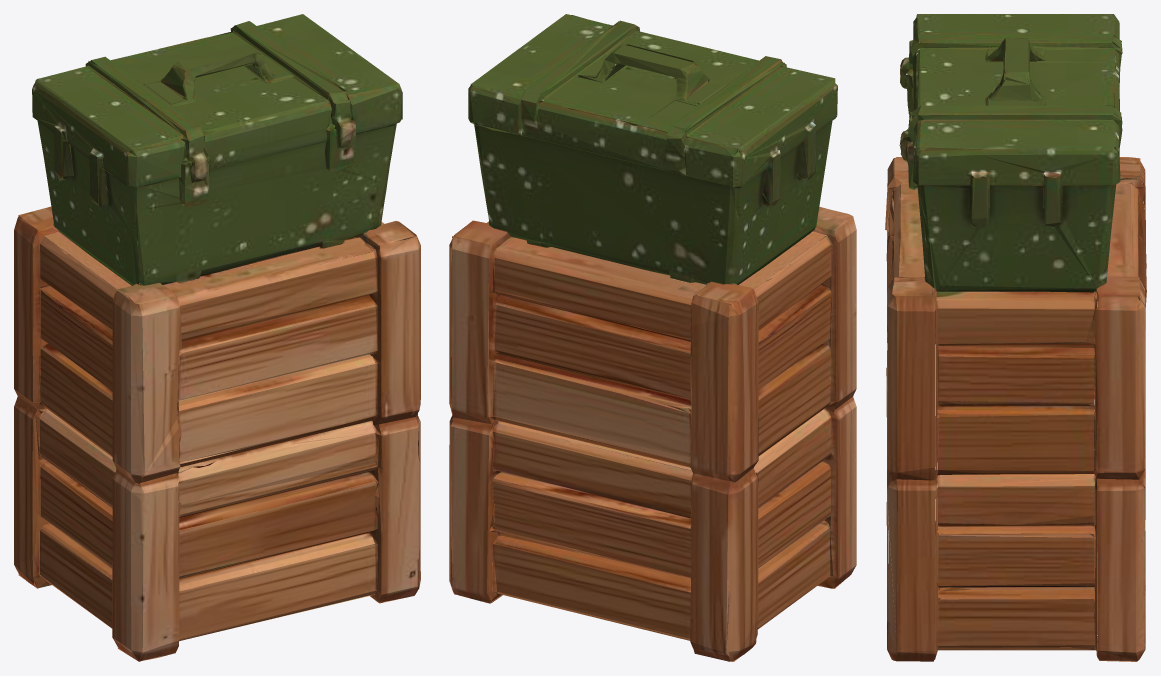
The model's file is crate_stack.glb.
3 views of the same model, side by side, from view 1: azimuth 30°, elevation 25°; view 2: azimuth 150°, elevation 25°; view 3: azimuth 270°, elevation 25° (orthographic).
Parts seen in each view (by area): view 1: obj.obj; view 2: obj.obj; view 3: obj.obj.
Part boxes in pixels (left/top/right/bottom): obj.obj: left=14, top=14, right=420, bottom=661; obj.obj: left=449, top=14, right=856, bottom=661; obj.obj: left=885, top=14, right=1146, bottom=661.
Bounding box in the file's own units: 0.8043 × 1.4 × 0.6169.
Materials: 1 (1 with a texture image).
